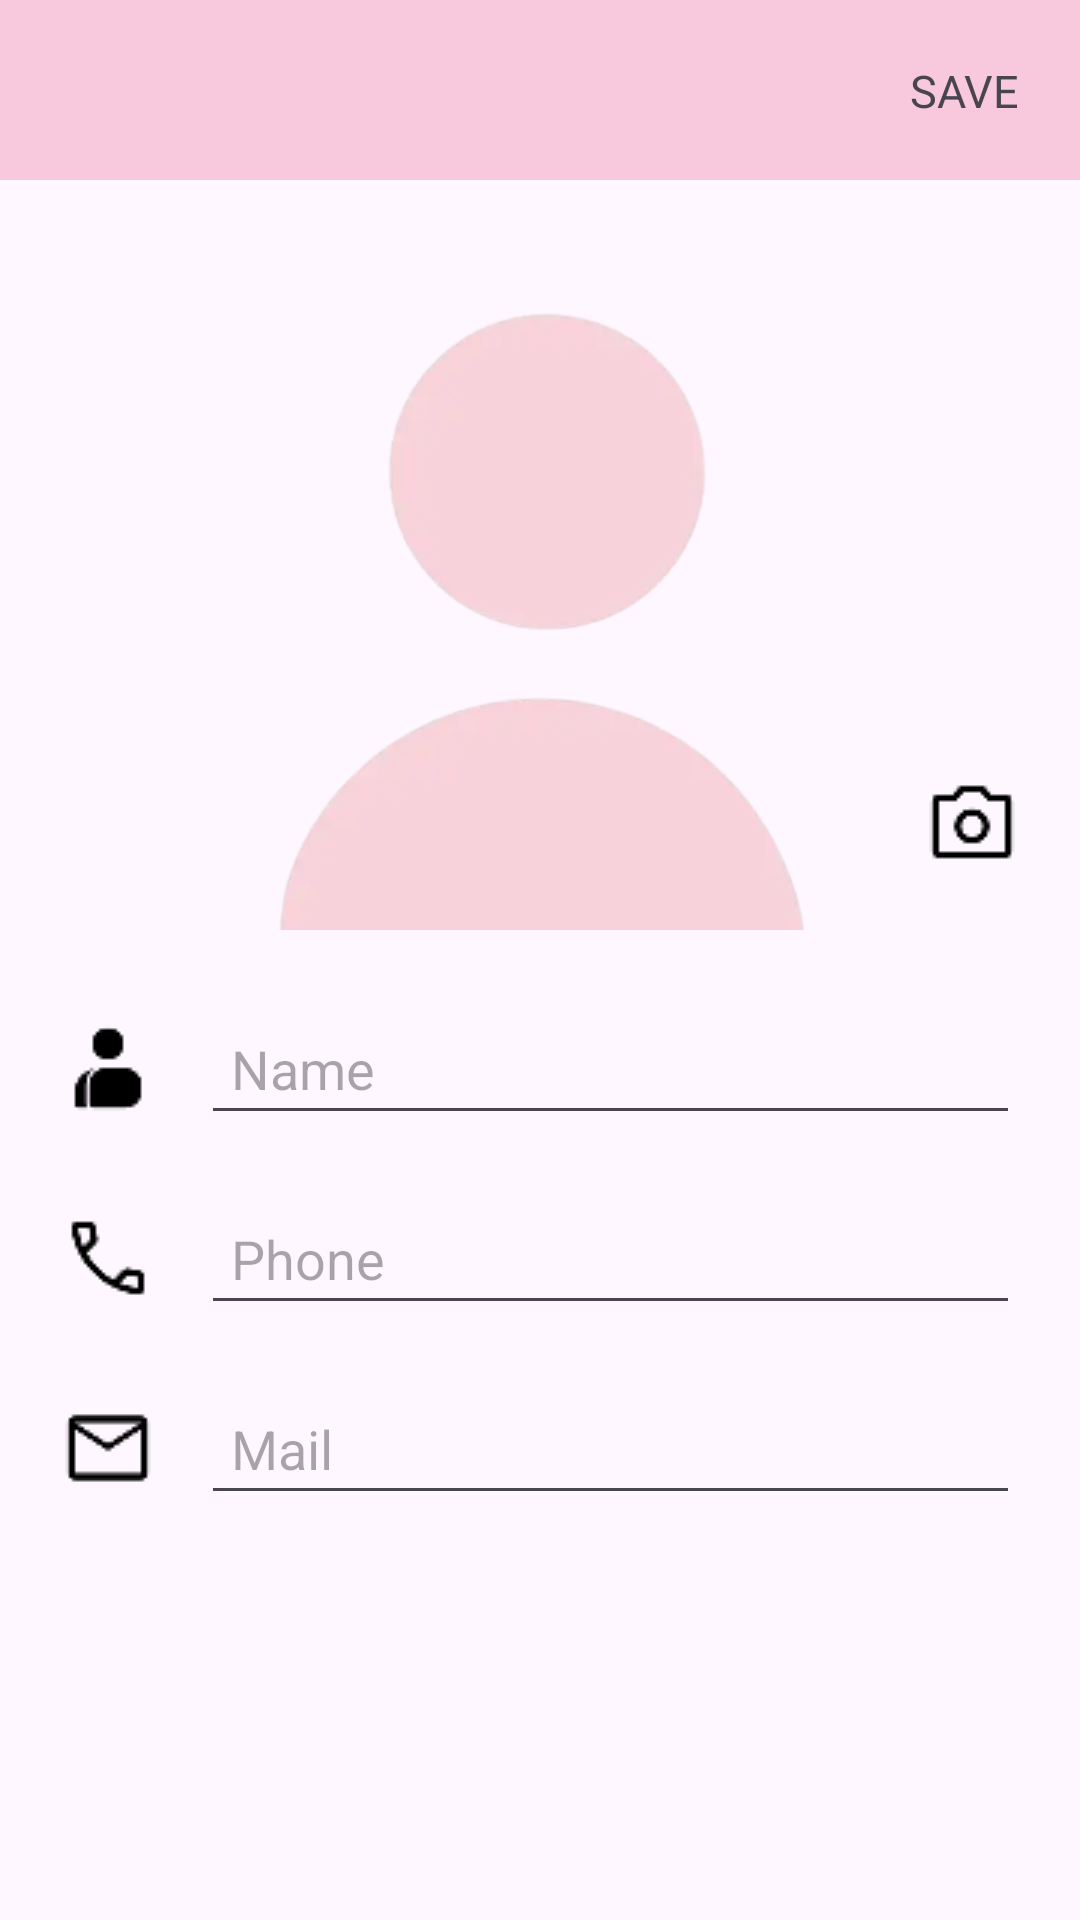

Locate icon controls on the screen. Image size 1080×1920, boxes as (x1, y1, x2, y2).
call: (71, 1221, 145, 1295)
camera: (931, 785, 1013, 859)
user: (74, 1028, 142, 1109)
